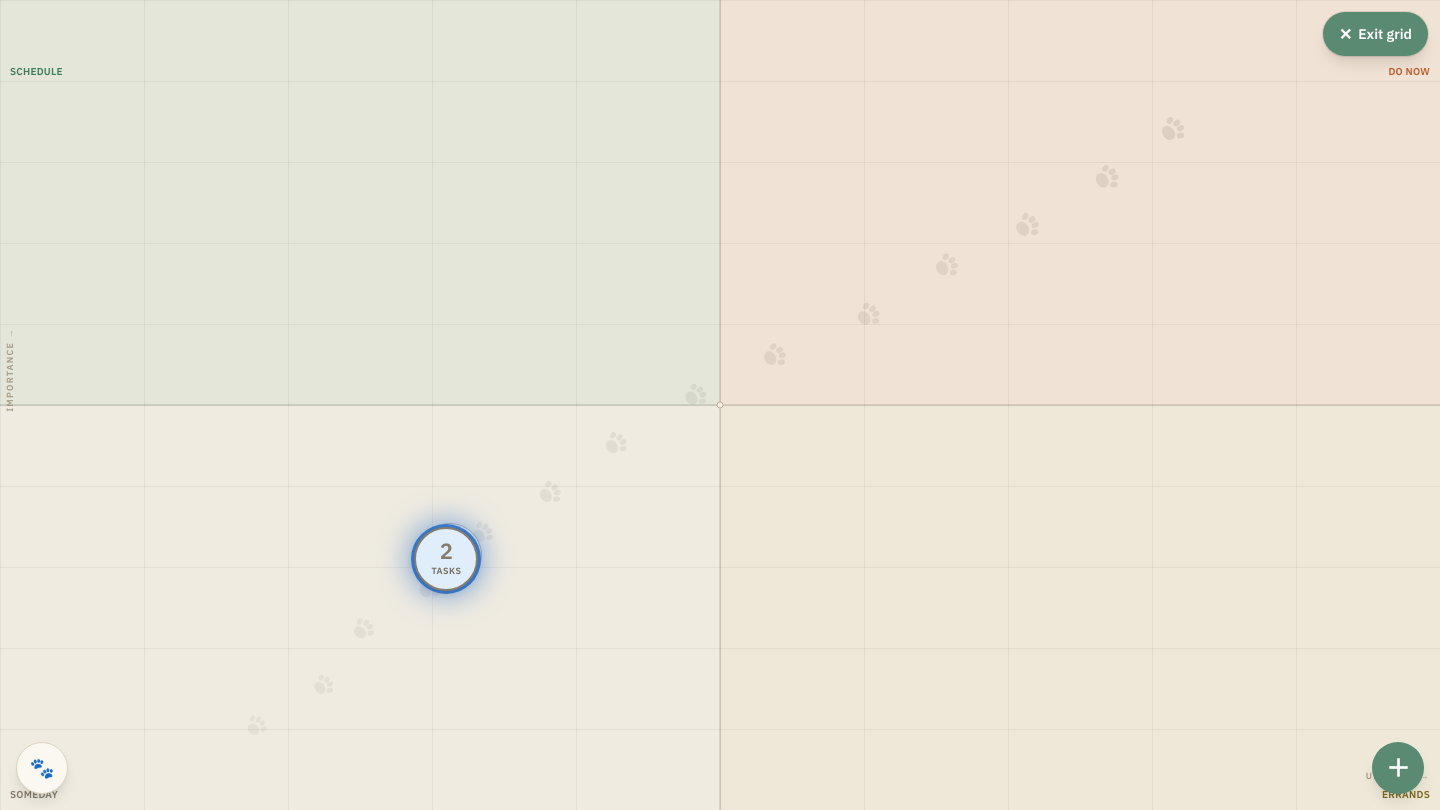
Test: TouchGridSurface rendering › a stale cluster member shows the same ❄️ chip in the member list (lane-gating parity)
The image size is (1440, 810).
Click the button "2 tasks": (446, 559) [414,527,478,591]
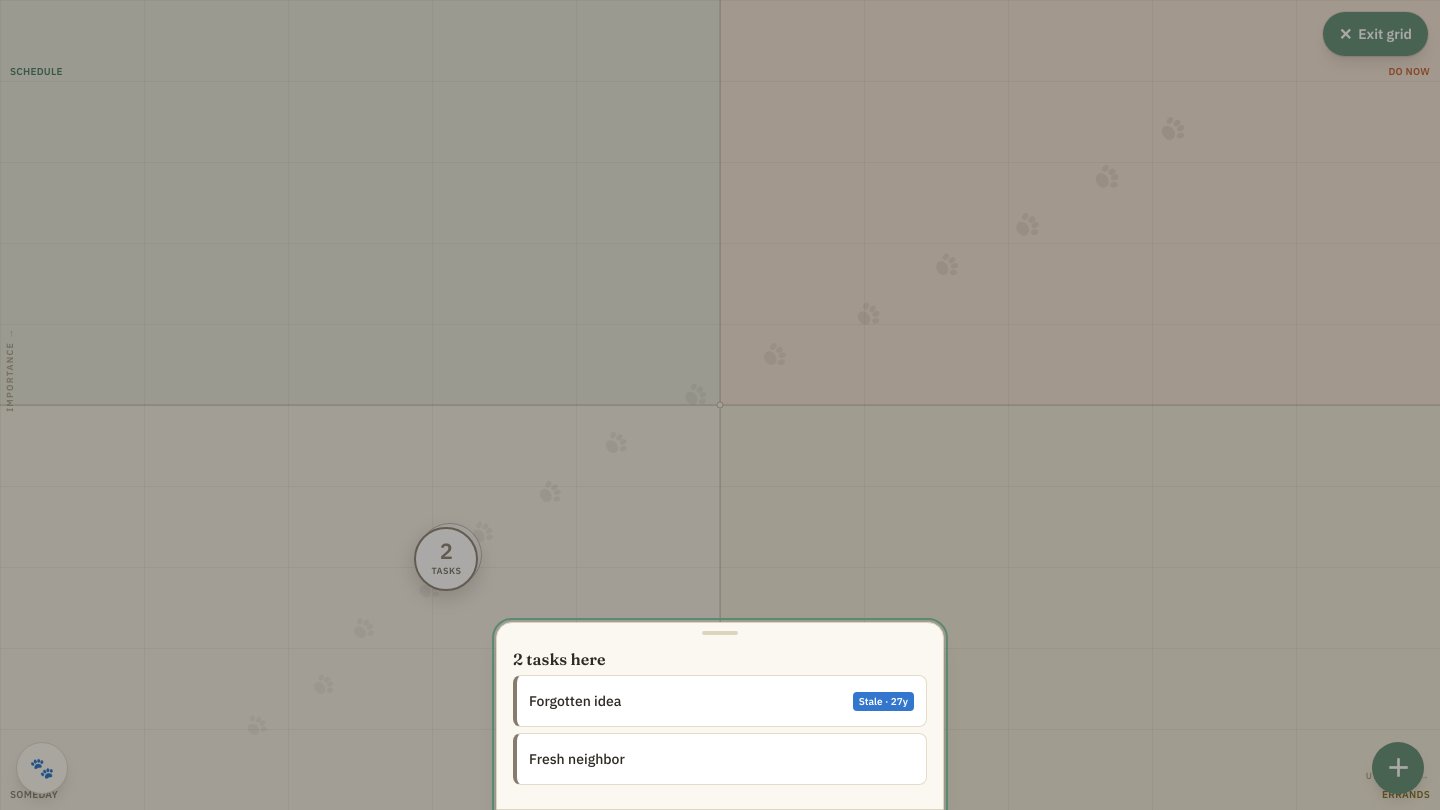
Check: the text "Stale · 27y" is shown, box [853,692,914,710]
